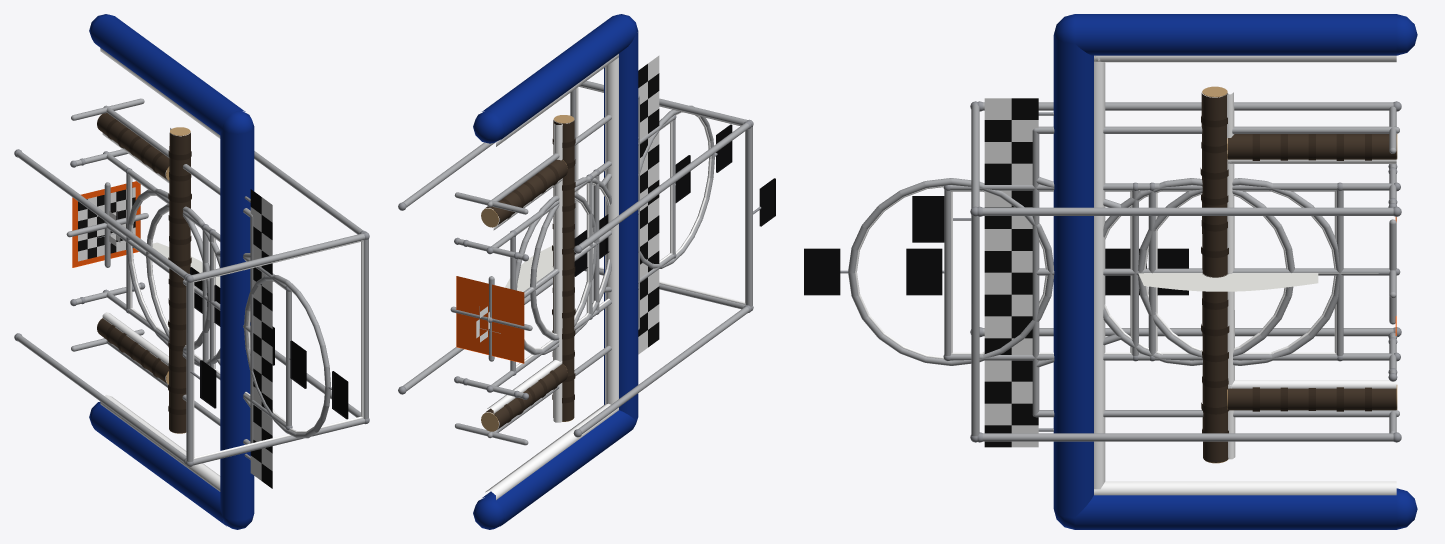
File: gates.glb
3 renders of one model, left to right at view 1: azimuth 30°, elevation 25°; view 2: azimuth 150°, elevation 25°; view 3: azimuth 270°, elevation 25°, orthographic. The views are drawn at different scales.
Visible parts, largest first — view 1: arch, dive, log, hanging, high, pad, ladder, square, round, arch_led, dive_led, log_led (+1 smaller); view 2: arch, dive, log, arch_led, pad, hanging, log_led, ladder, high, square, round, dive_led (+4 smaller); view 3: arch, log, dive, arch_led, hanging, high, ladder, square, round, log_led, flag, square_led (+3 smaller).
Part boxes in pixels (x1,y1,x2,y2): arch: (89,14,272,529); dive: (14,149,369,466); log: (97,113,202,433); hanging: (71,98,274,444); high: (66,182,348,438); pad: (72,181,140,267); ladder: (70,149,306,429); square: (80,149,220,364); round: (78,189,220,351); arch_led: (100,48,220,491); dive_led: (193,240,363,459); log_led: (102,128,179,365); arch: (473,14,659,529); dive: (398,81,775,437); log: (481,115,587,431); arch_led: (485,54,618,499); pad: (456,276,524,363); hanging: (454,95,639,445); log_led: (487,123,562,422); ladder: (454,114,690,399); high: (450,105,732,361); square: (463,174,607,397); round: (460,192,609,354); dive_led: (575,86,745,304); arch: (984,14,1417,529); log: (1157,86,1397,463); dive: (912,101,1401,442); arch_led: (1094,55,1396,495); hanging: (1032,106,1399,433); high: (804,178,1396,365); ladder: (906,164,1397,381); square: (1111,167,1400,374); round: (1105,178,1396,365); log_led: (1222,92,1396,459); flag: (1137,268,1400,291); square_led: (1155,190,1336,354).
Bounding box in the file's own units: 4.32 × 9.4 × 10.42.
